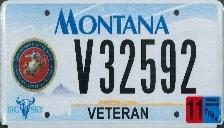2: (180, 38, 199, 95), (119, 37, 137, 97)
3: (97, 38, 116, 95)
5: (139, 38, 157, 95)
9: (159, 38, 177, 95)
V: (71, 37, 95, 97)
